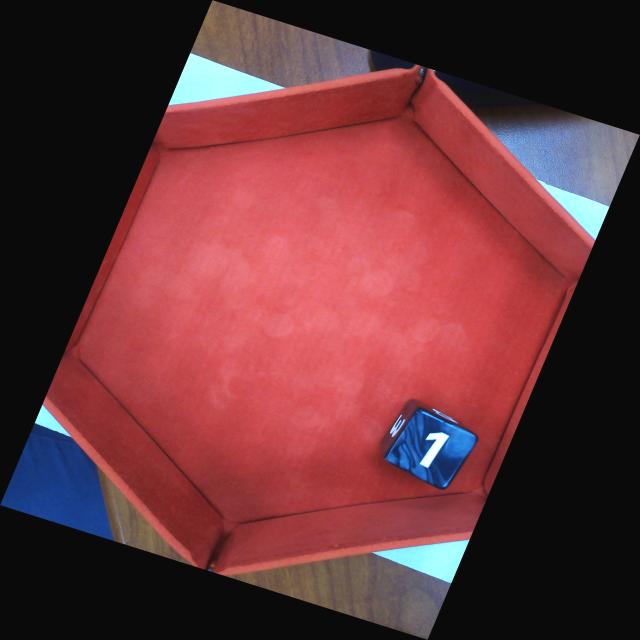dice: (379, 404, 482, 493)
